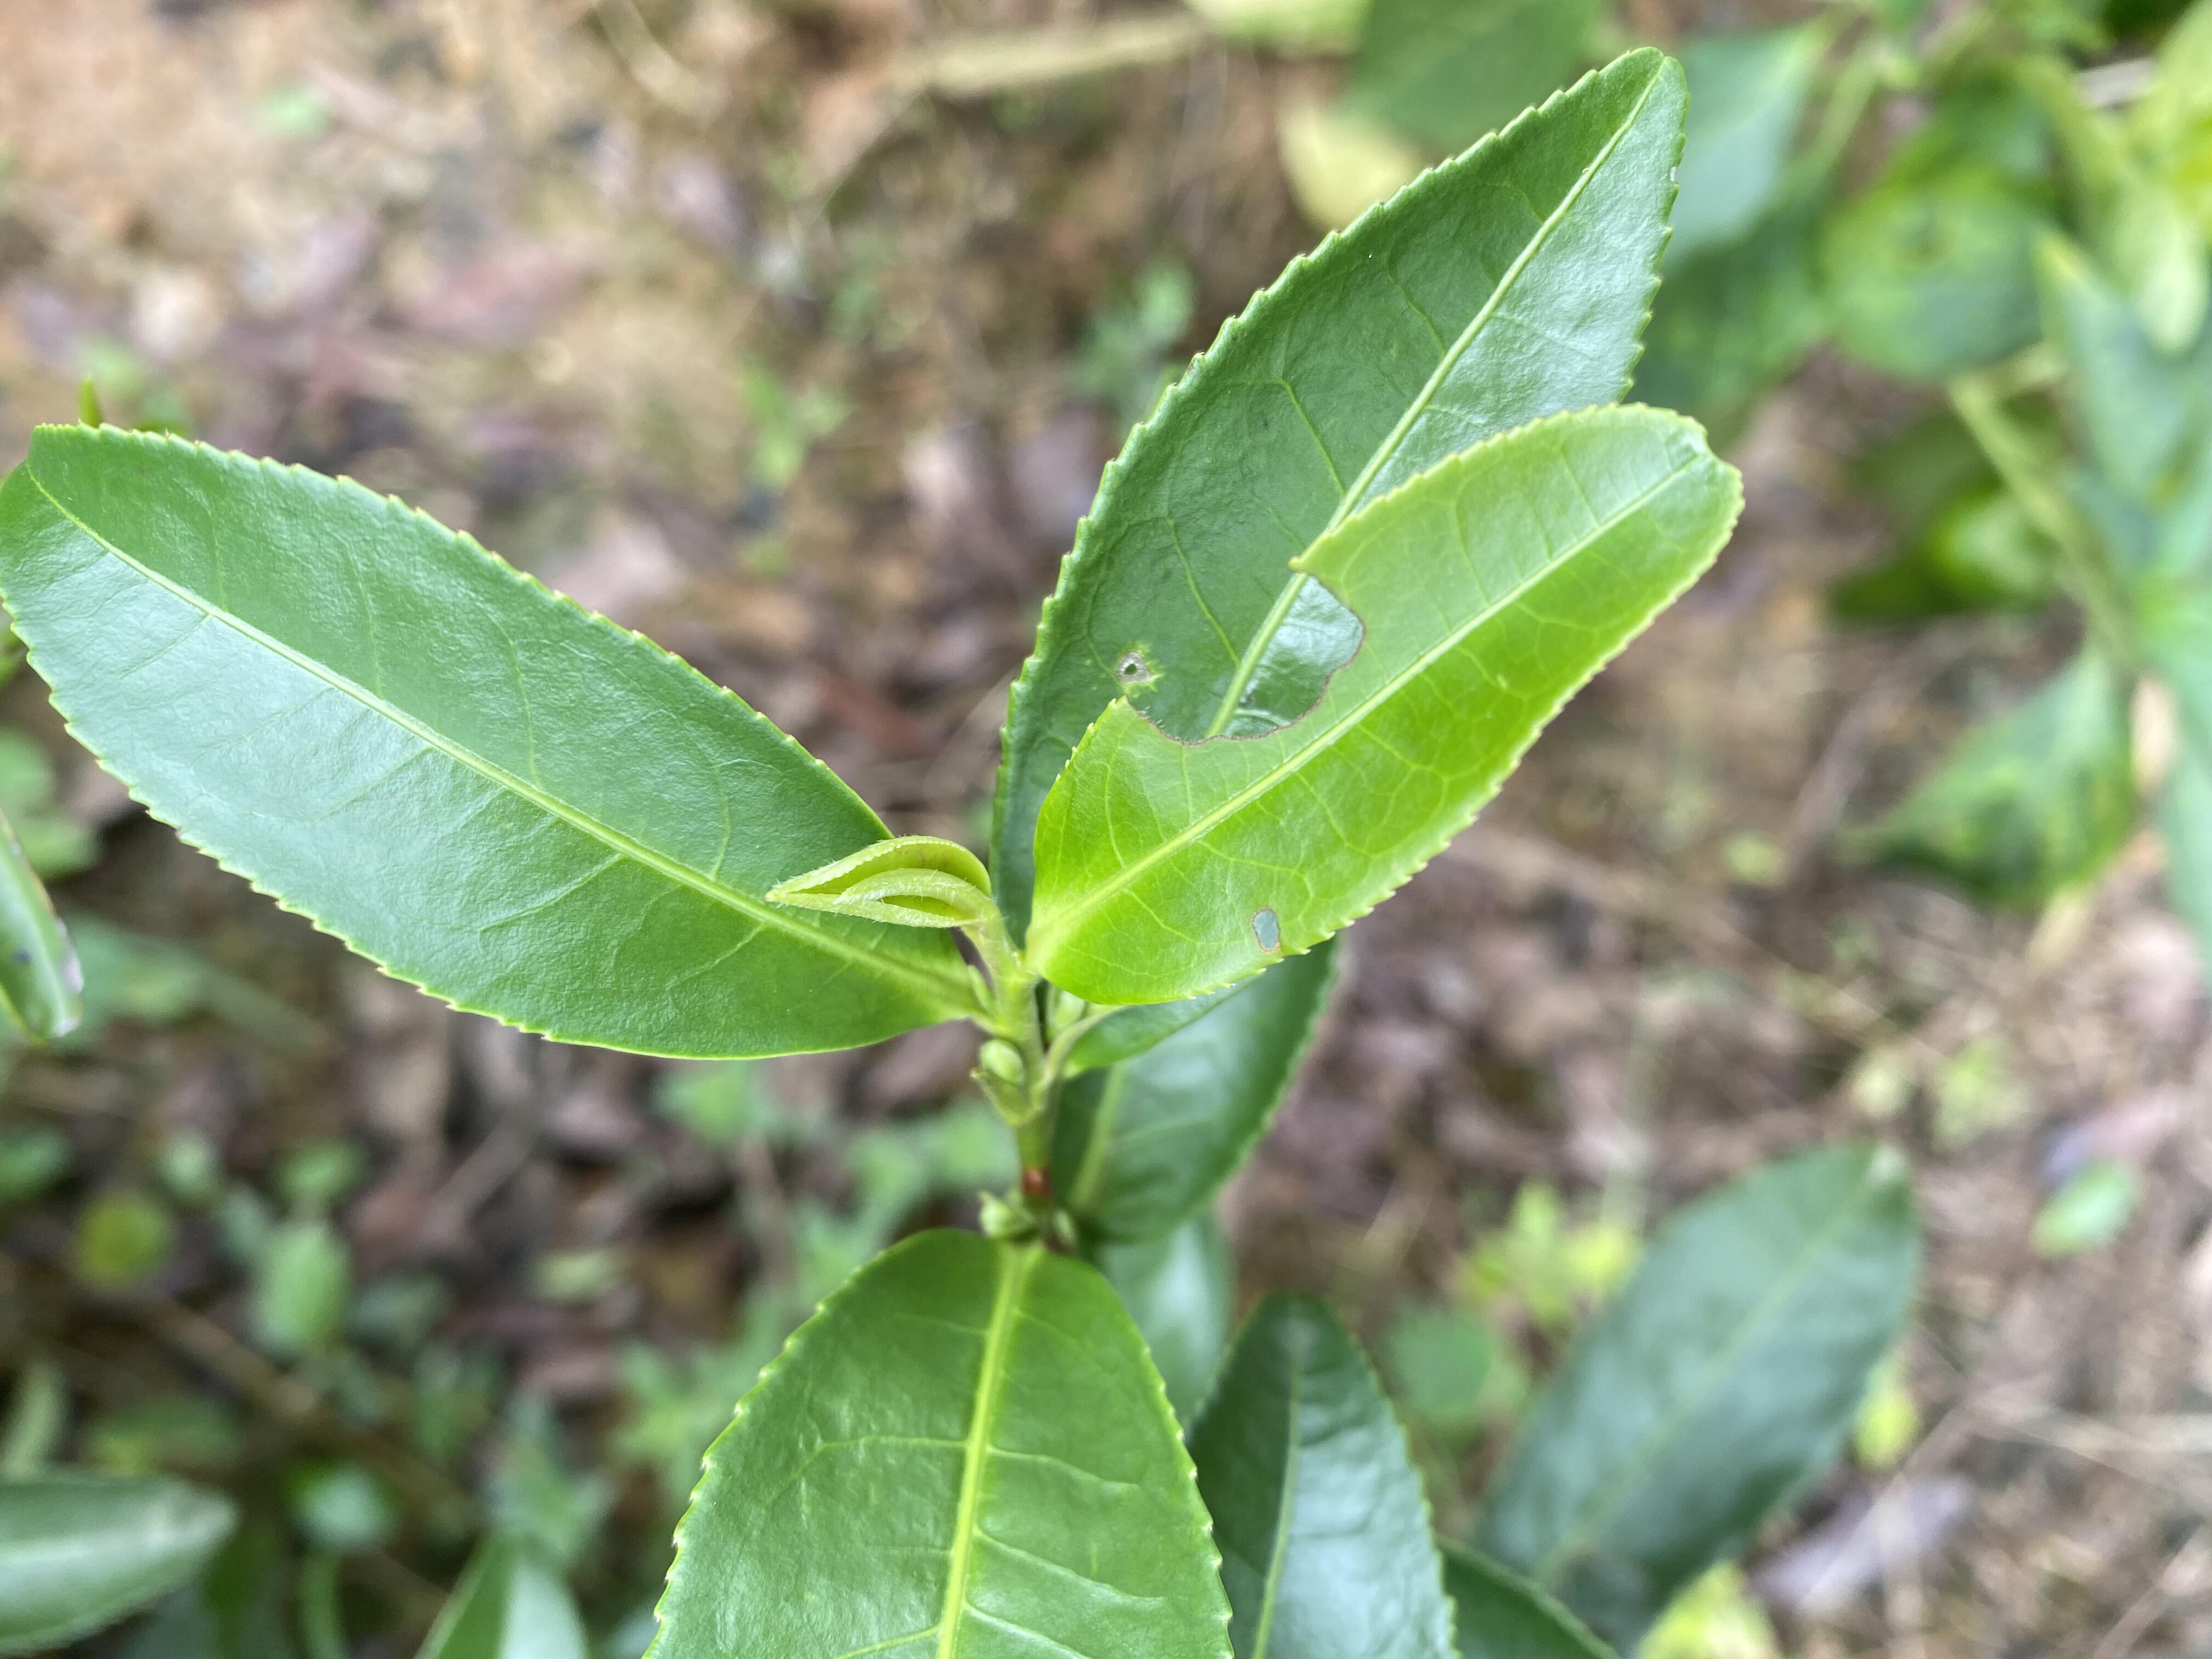chihuo_high: (1021, 401, 1747, 1009)
healthy: (2, 423, 963, 1060), (646, 1223, 1237, 1654)
tanju_low: (996, 42, 1691, 704)
